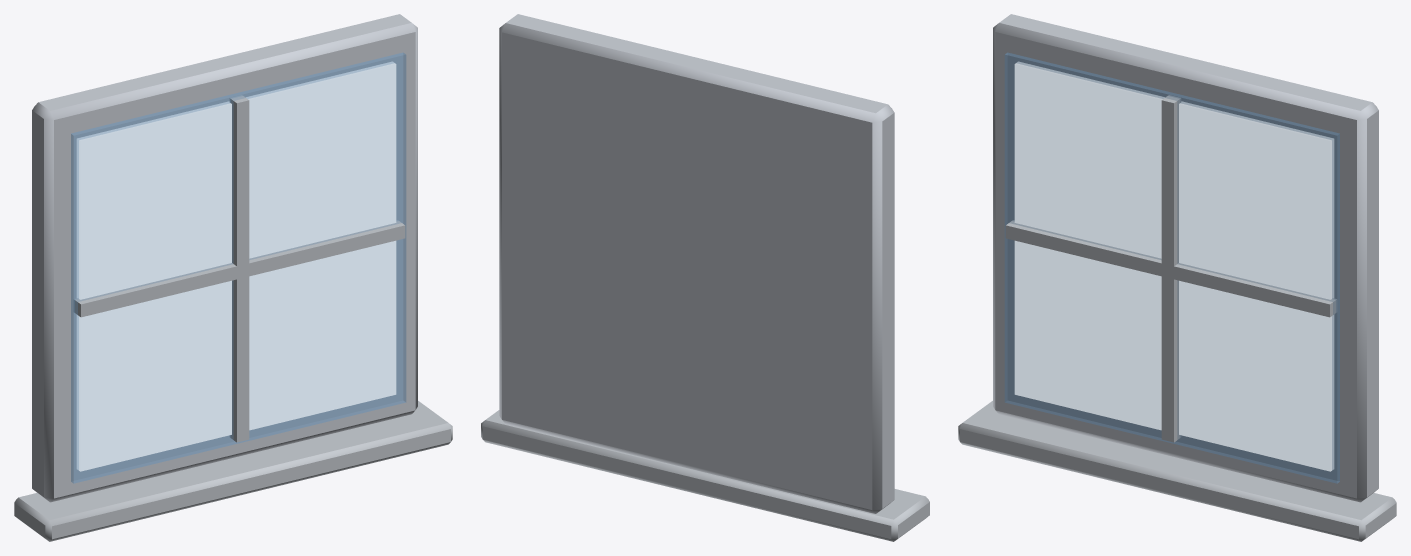
The model's file is panellight_window_light_box.glb.
3 views of the same model, side by side, from view 1: azimuth 30°, elevation 25°; view 2: azimuth 150°, elevation 25°; view 3: azimuth 330°, elevation 25° (orthographic). The views are drawn at different scales.
Parts seen in each view (by area): view 1: panellight_window_light_box; view 2: panellight_window_light_box; view 3: panellight_window_light_box.
Boxes of the visible parts, bbox=[...] form: panellight_window_light_box: bbox=[14, 14, 452, 541]; panellight_window_light_box: bbox=[481, 14, 929, 541]; panellight_window_light_box: bbox=[958, 14, 1396, 541].
Bounding box in the file's own units: 0.98 × 0.95 × 0.15.
